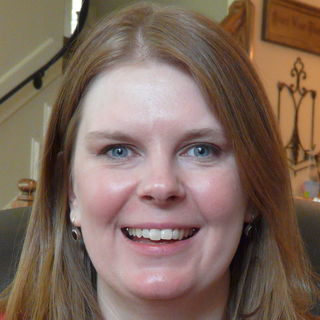eye: (172, 136, 224, 166), (93, 139, 147, 166)
